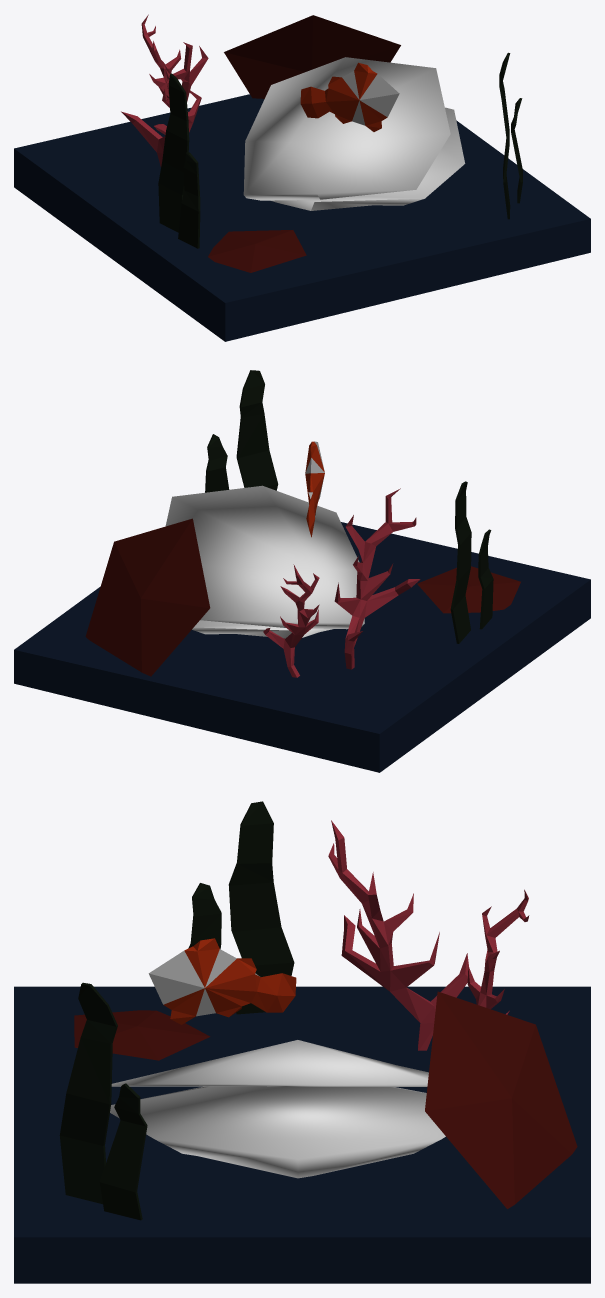
File: W_O_Playground_SeaSymbolic_002_L3.fbx
The picture shows the model from 3 angles, top to bottom: view 1: azimuth 30°, elevation 25°; view 2: azimuth 150°, elevation 25°; view 3: azimuth 270°, elevation 25°; orthographic projection. The views are drawn at different scales.
Parts seen in each view (by area): view 1: W_O_Playground_SeaSymbolic_002_L3; view 2: W_O_Playground_SeaSymbolic_002_L3; view 3: W_O_Playground_SeaSymbolic_002_L3.
Boxes of the visible parts, <box> form: W_O_Playground_SeaSymbolic_002_L3: <box>14,14,590,341</box>; W_O_Playground_SeaSymbolic_002_L3: <box>14,370,590,772</box>; W_O_Playground_SeaSymbolic_002_L3: <box>14,801,590,1283</box>.
Size of the model in its own units: 3 by 1.54 by 3.
